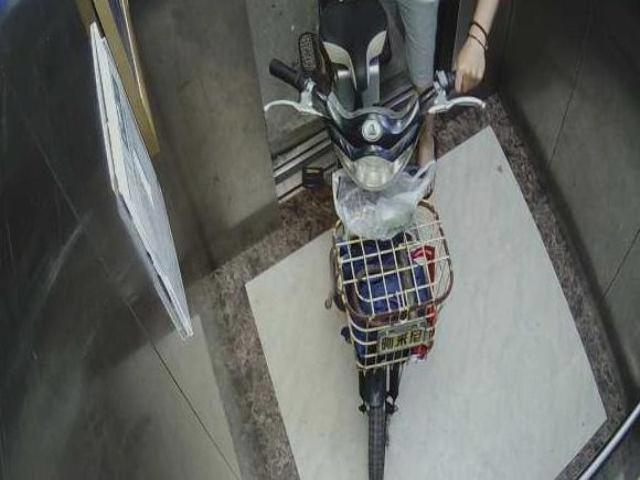emotor: (264, 1, 489, 480)
